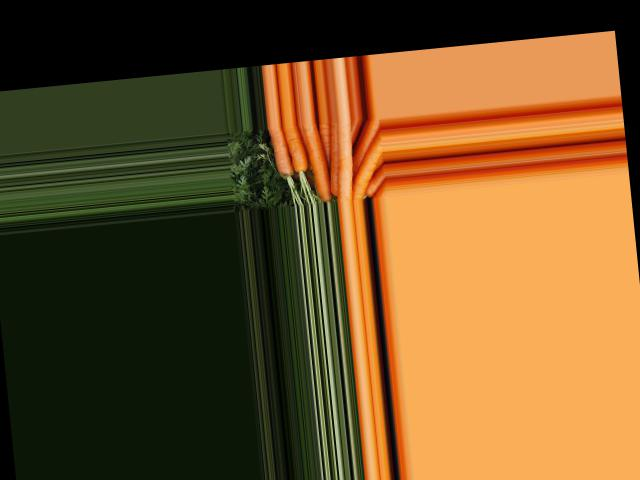carrot: (349, 134, 386, 198)
